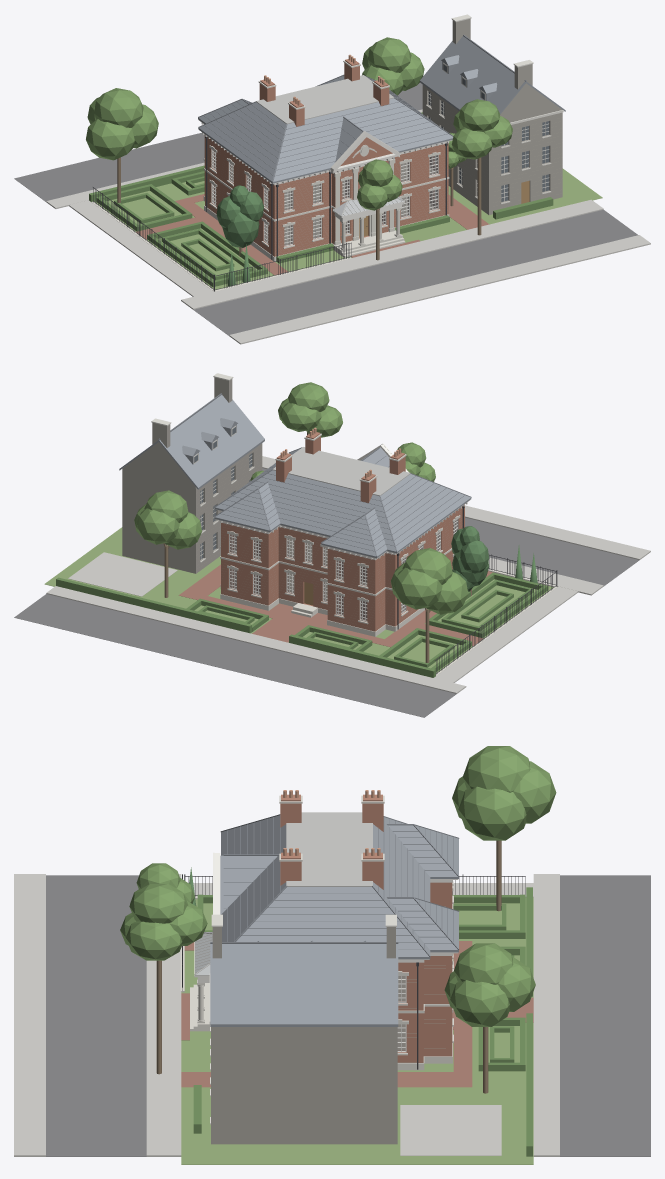
File: clay-halifax-georgian-colonial-clay-v001.glb
The picture shows the model from 3 angles, top to bottom: view 1: azimuth 30°, elevation 25°; view 2: azimuth 150°, elevation 25°; view 3: azimuth 270°, elevation 25°; orthographic projection. The views are drawn at different scales.
Visible parts, largest first — view 1: CLAY_ASPHALT, CLAY_ROOF, CLAY_CONCRETE, CLAY_WALL, CLAY_PLANTING, CLAY_NEIGHBOUR, CLAY_HEDGE, CLAY_LAWN, CLAY_STONE, CLAY_TRIM, CLAY_HARDWARE, CLAY_LEAD (+8 smaller); view 2: CLAY_ASPHALT, CLAY_ROOF, CLAY_WALL, CLAY_CONCRETE, CLAY_PLANTING, CLAY_HEDGE, CLAY_NEIGHBOUR, CLAY_LAWN, CLAY_PAVING, CLAY_STONE, CLAY_COURSE, CLAY_LEAD (+7 smaller); view 3: CLAY_ASPHALT, CLAY_ROOF, CLAY_CONCRETE, CLAY_NEIGHBOUR, CLAY_PLANTING, CLAY_LAWN, CLAY_WALL, CLAY_HEDGE, CLAY_LEAD, CLAY_COURSE, CLAY_PAVING, CLAY_STONE (+4 smaller).
Part boxes in pixels (left/top/right/bottom): CLAY_ASPHALT: left=14, top=82, right=638, bottom=335; CLAY_ROOF: left=198, top=36, right=565, bottom=183; CLAY_CONCRETE: left=46, top=109, right=650, bottom=344; CLAY_WALL: left=204, top=59, right=448, bottom=256; CLAY_PLANTING: left=86, top=37, right=512, bottom=210; CLAY_NEIGHBOUR: left=422, top=18, right=562, bottom=214; CLAY_HEDGE: left=89, top=112, right=553, bottom=286; CLAY_LAWN: left=95, top=168, right=602, bottom=289; CLAY_STONE: left=91, top=60, right=449, bottom=291; CLAY_TRIM: left=199, top=120, right=452, bottom=246; CLAY_HARDWARE: left=93, top=136, right=447, bottom=291; CLAY_LEAD: left=256, top=75, right=404, bottom=215; CLAY_ASPHALT: left=14, top=468, right=639, bottom=717; CLAY_ROOF: left=119, top=395, right=471, bottom=558; CLAY_WALL: left=221, top=432, right=464, bottom=631; CLAY_CONCRETE: left=46, top=456, right=650, bottom=693; CLAY_PLANTING: left=134, top=382, right=468, bottom=614; CLAY_HEDGE: left=56, top=572, right=547, bottom=677; CLAY_NEIGHBOUR: left=122, top=377, right=262, bottom=573; CLAY_LAWN: left=44, top=527, right=553, bottom=672; CLAY_PAVING: left=179, top=564, right=493, bottom=647; CLAY_STONE: left=220, top=433, right=557, bottom=675; CLAY_COURSE: left=158, top=393, right=471, bottom=556; CLAY_LEAD: left=273, top=447, right=410, bottom=495; CLAY_ASPHALT: left=46, top=875, right=650, bottom=1156; CLAY_ROOF: left=210, top=815, right=458, bottom=1026; CLAY_CONCRETE: left=14, top=874, right=559, bottom=1156; CLAY_NEIGHBOUR: left=211, top=927, right=397, bottom=1144; CLAY_PLANTING: left=120, top=746, right=556, bottom=1026; CLAY_LAWN: left=181, top=897, right=533, bottom=1164; CLAY_WALL: left=280, top=794, right=452, bottom=1062; CLAY_HEDGE: left=193, top=887, right=532, bottom=1156; CLAY_LEAD: left=194, top=812, right=372, bottom=974; CLAY_COURSE: left=210, top=814, right=459, bottom=956; CLAY_PAVING: left=181, top=941, right=533, bottom=1087; CLAY_STONE: left=180, top=795, right=453, bottom=1070.
Size of the model in its own units: 51.4 by 16.5 by 47.82.
